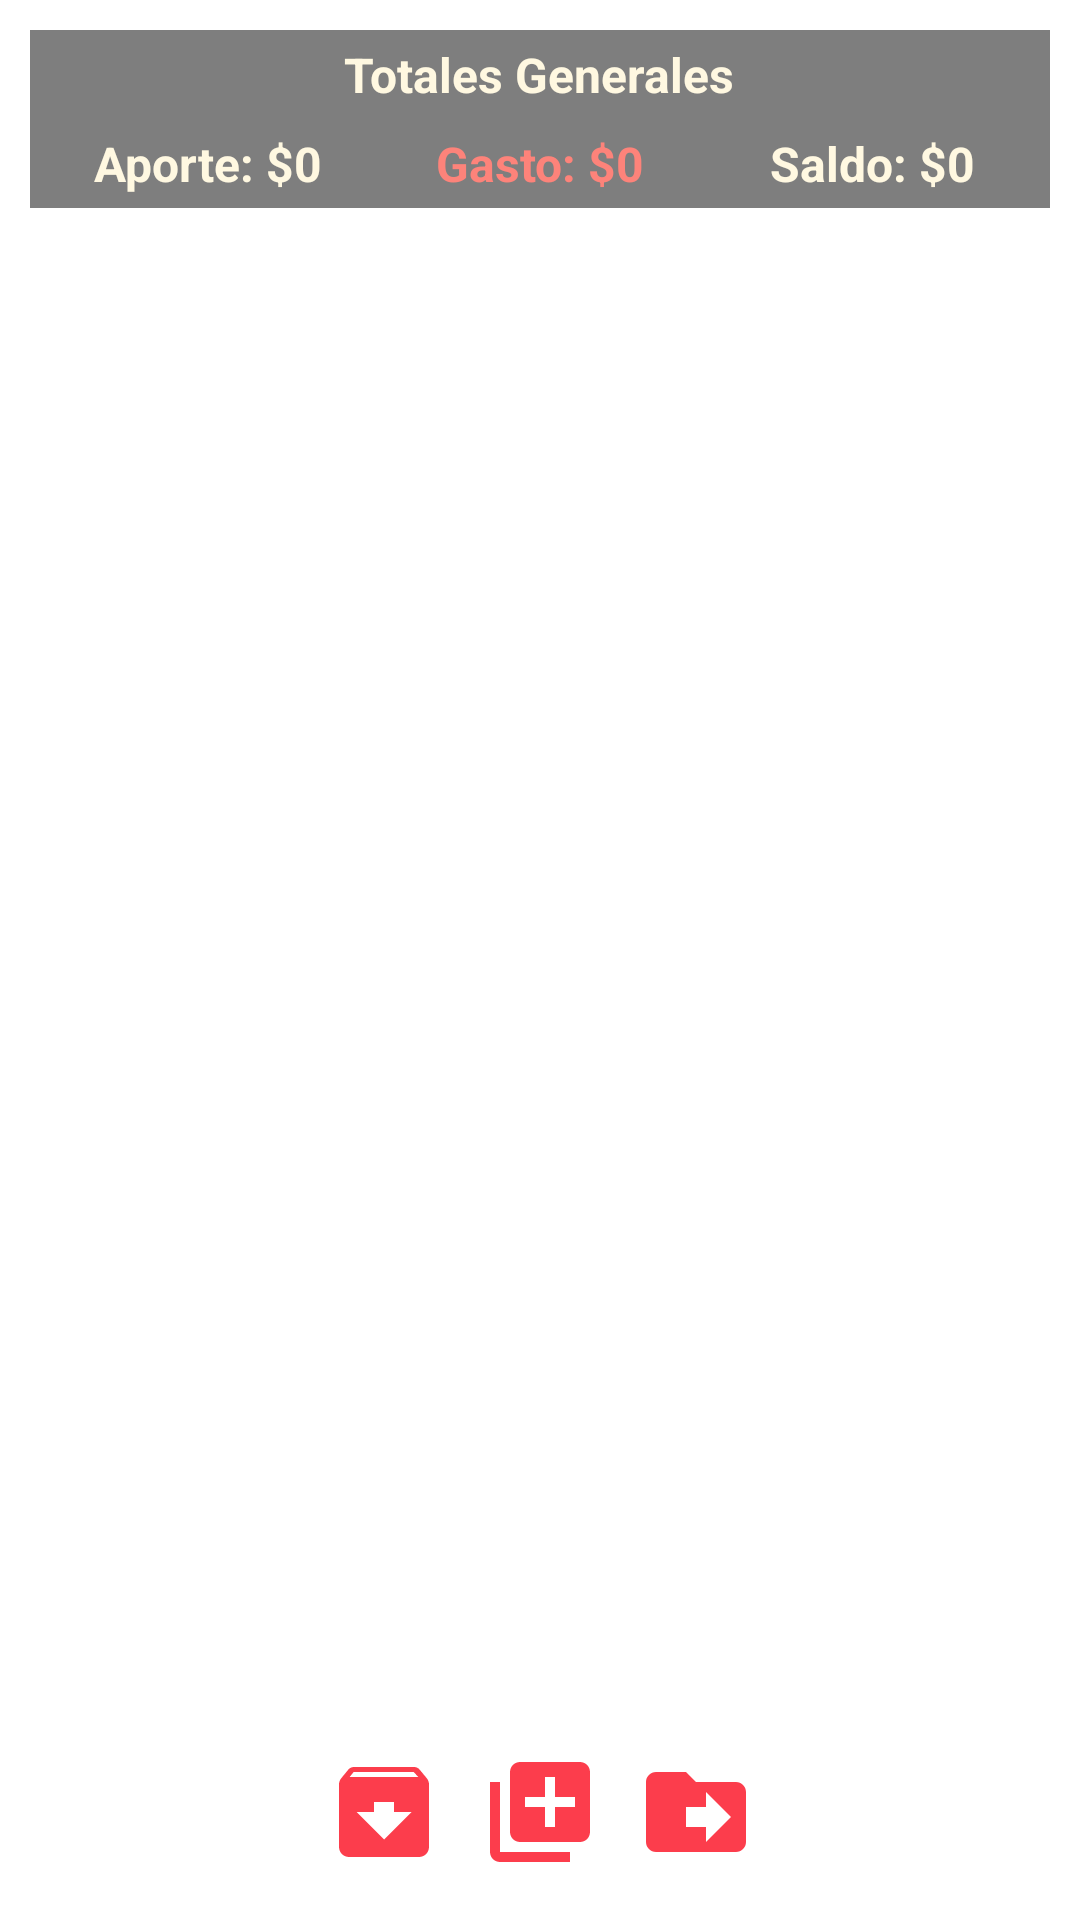

Screen size 1080×1920. Icon name, then its box in pixels as bbox=[x1, y1, x2, y2]:
Asignar Cuota: bbox=[490, 1762, 590, 1862]
Exportar PDF: bbox=[646, 1772, 746, 1852]
